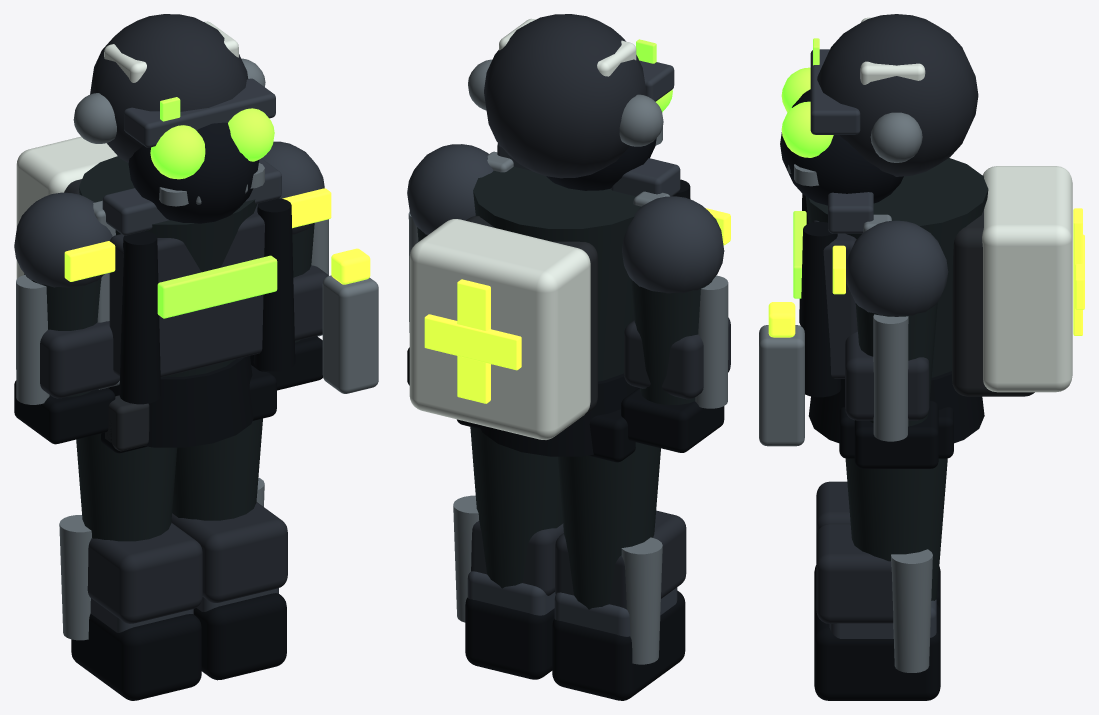
The model's file is medic_l01.glb.
The picture shows the model from 3 angles, left to right: view 1: azimuth 30°, elevation 25°; view 2: azimuth 150°, elevation 25°; view 3: azimuth 270°, elevation 25°; orthographic projection. The views are drawn at different scales.
Visible parts, largest first — view 1: shaped_knee_guard (×2), trouser (×2), boot (×2), rounded_helmet, vest_tether (×2), segmented_vest, shoulder_joint (×2), waist_flex, forearm_plate (×2), enclosed_mask, aid_injector, glove (×2) (+18 smaller); view 2: medical_pack, trouser (×2), rounded_helmet, boot (×2), shoulder_joint (×2), body, shin_frame (×2), shaped_knee_guard (×2), sleeve, shin_plate (×2), glove, forearm_plate (+11 smaller); view 3: medical_pack, rounded_helmet, trouser, body, shoulder_joint, shaped_knee_guard (×2), boot, field_pack, aid_injector, vest_tether, shin_frame, forearm_seam (+19 smaller).
Part boxes in pixels (box(x1,y1,x2,y2)): shaped_knee_guard (×2): box(87, 502, 287, 623); trouser (×2): box(76, 418, 262, 541); boot (×2): box(71, 593, 286, 700); rounded_helmet: box(90, 14, 248, 162); vest_tether (×2): box(119, 198, 295, 404); segmented_vest: box(109, 204, 264, 377); shoulder_joint (×2): box(14, 141, 324, 287); waist_flex: box(108, 356, 253, 447); forearm_plate (×2): box(40, 265, 328, 398); enclosed_mask: box(128, 122, 259, 223); aid_injector: box(322, 275, 378, 393); glove (×2): box(14, 336, 322, 444); medical_pack: box(409, 219, 590, 439); trouser (×2): box(470, 427, 660, 609); rounded_helmet: box(484, 14, 646, 178); boot (×2): box(465, 590, 685, 700); shoulder_joint (×2): box(407, 144, 724, 293); body: box(473, 166, 640, 381); shin_frame (×2): box(453, 495, 662, 664); shaped_knee_guard (×2): box(471, 510, 686, 609); sleeve: box(631, 279, 712, 404); shin_plate (×2): box(467, 571, 677, 636); glove: box(621, 388, 724, 452); forearm_plate: box(624, 317, 730, 399); medical_pack: box(982, 166, 1072, 392); rounded_helmet: box(817, 14, 978, 176); trouser: box(845, 458, 947, 600); body: box(805, 158, 988, 377); shoulder_joint: box(846, 220, 948, 316); shaped_knee_guard (×2): box(816, 481, 893, 623); boot: box(814, 604, 940, 700); field_pack: box(952, 175, 1034, 396); aid_injector: box(759, 325, 804, 446); vest_tether: box(800, 222, 841, 397); shin_frame: box(891, 549, 932, 672); forearm_seam: box(873, 314, 908, 441).
Size of the model in its own units: 0.9406 by 1.86 by 0.8525.
